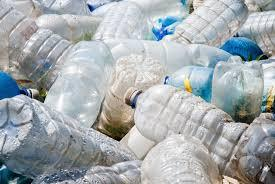Plastic bottle: (1, 1, 275, 79), (116, 81, 275, 184), (0, 83, 104, 177)
